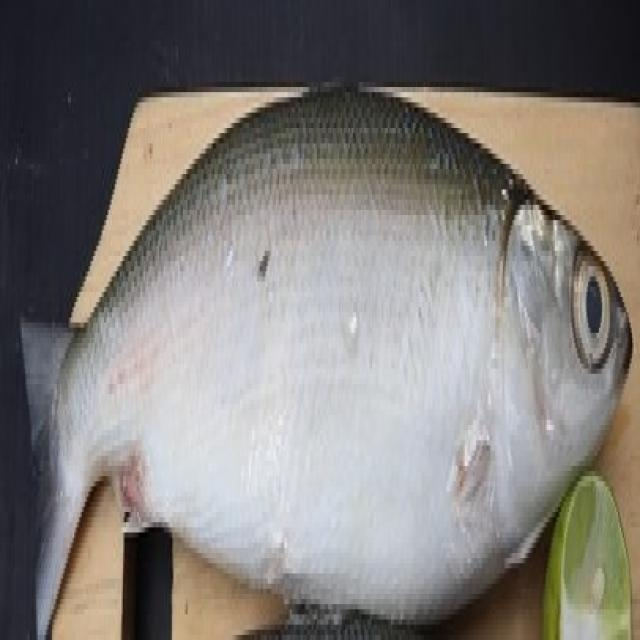Bangus: (11, 98, 632, 636)
